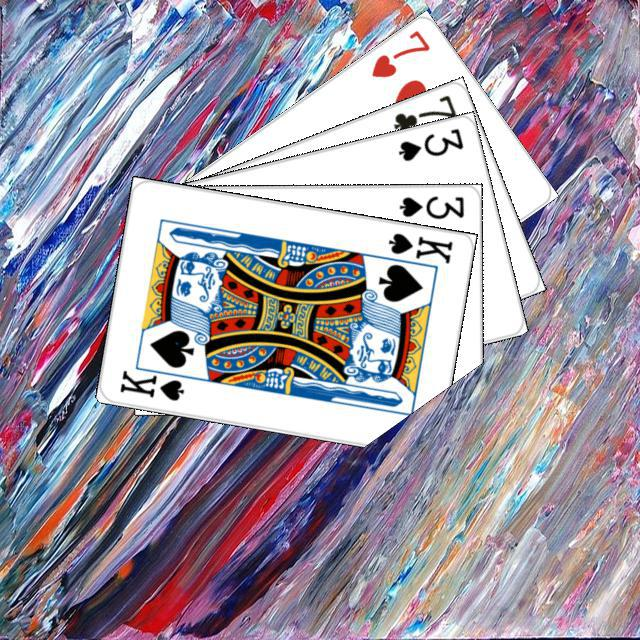3s: (393, 123, 465, 163), (394, 190, 465, 221)
7c: (388, 89, 459, 137)
7h: (366, 25, 432, 80)
Ks: (115, 361, 194, 403), (383, 227, 455, 265)
